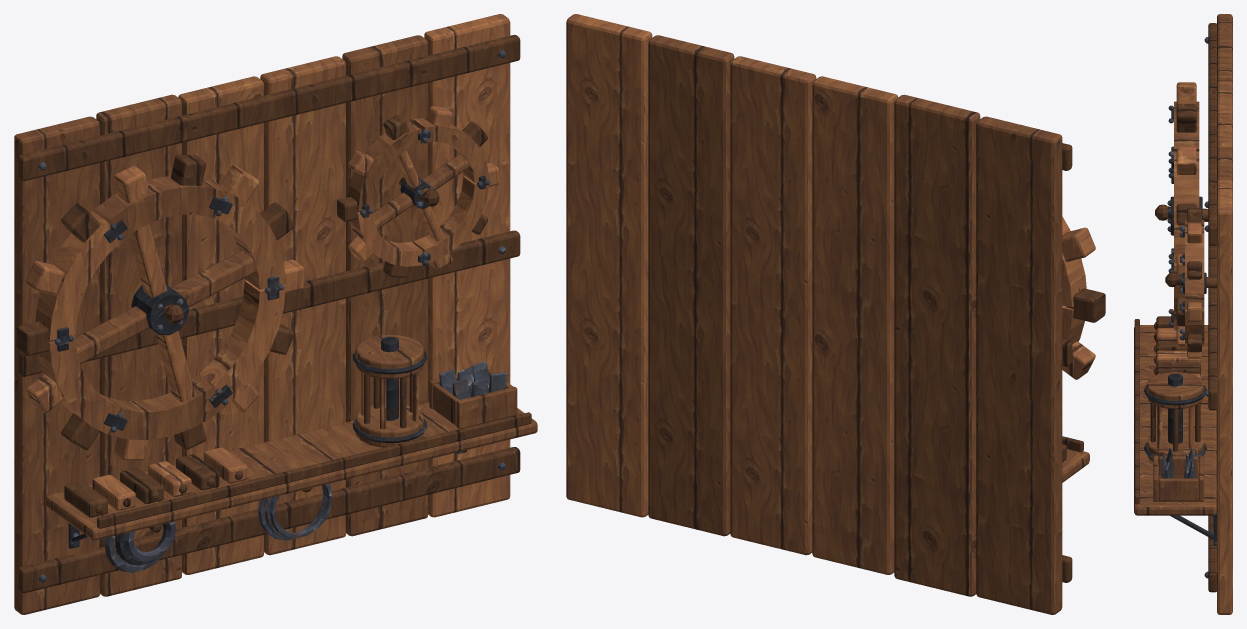
Rendered from hw_gear_wall.glb.
3 renders of one model, left to right at view 1: azimuth 30°, elevation 25°; view 2: azimuth 150°, elevation 25°; view 3: azimuth 270°, elevation 25°, orthographic. The views are drawn at different scales.
Visible parts, largest first — view 1: model; view 2: model; view 3: model.
Part boxes in pixels (bbox=[...]): model: bbox=[14, 14, 537, 614]; model: bbox=[566, 14, 1105, 614]; model: bbox=[1134, 14, 1232, 614].
Bounding box in the file's own units: 1.56 × 1.4 × 0.31.
6 materials, 6 textured.
